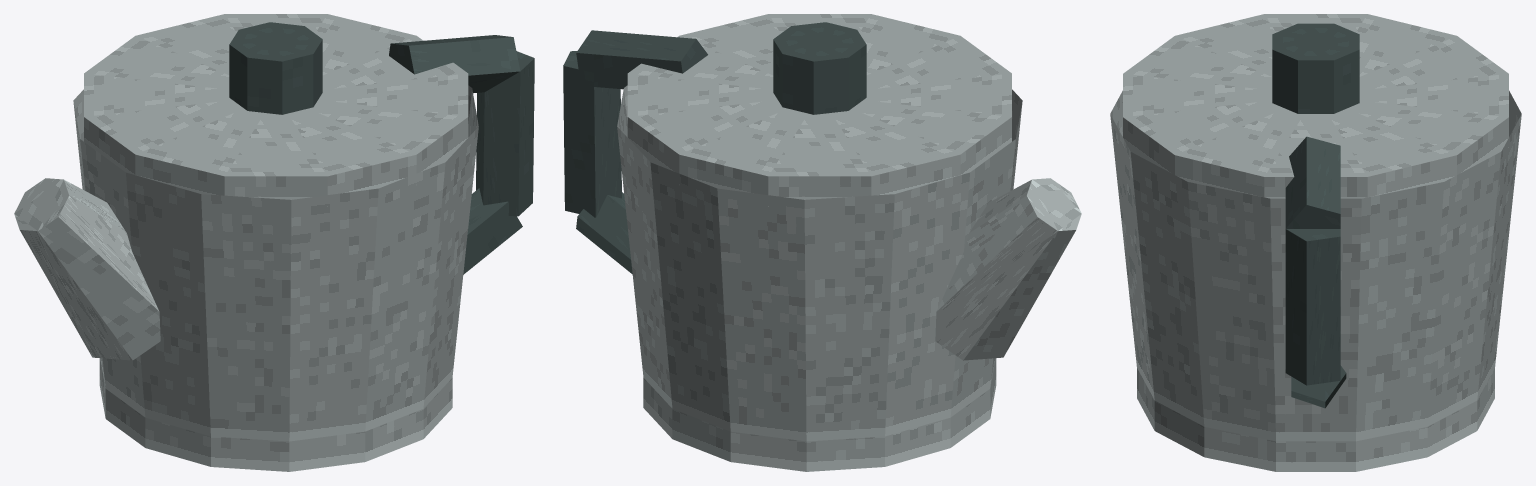
The model's file is teapot.glb.
The picture shows the model from 3 angles, left to right: view 1: azimuth 30°, elevation 25°; view 2: azimuth 150°, elevation 25°; view 3: azimuth 270°, elevation 25°; orthographic projection.
Parts seen in each view (by area): view 1: block_vessel wall, block_lid, block_spout, block_pressed base, block_knob, block_insulated handle 1, block_insulated handle 2, block_insulated handle 0; view 2: block_vessel wall, block_lid, block_spout, block_pressed base, block_knob, block_insulated handle 1, block_insulated handle 2, block_insulated handle 0; view 3: block_vessel wall, block_lid, block_pressed base, block_insulated handle 1, block_knob, block_insulated handle 2, block_insulated handle 0.
Part boxes in pixels (x1,y1,x2,y2): block_vessel wall: (73,85,478,441); block_lid: (84,14,468,206); block_spout: (14,178,160,360); block_pressed base: (99,358,452,471); block_knob: (229,22,322,114); block_insulated handle 1: (476,51,534,216); block_insulated handle 2: (389,35,520,93); block_insulated handle 0: (463,188,522,274); block_vessel wall: (617,85,1022,441); block_lid: (627,14,1011,206); block_spout: (935,178,1081,360); block_pressed base: (643,358,996,471); block_knob: (773,22,866,114); block_insulated handle 1: (563,51,621,217); block_insulated handle 2: (576,30,707,89); block_insulated handle 0: (576,192,632,274); block_vessel wall: (1110,90,1521,441); block_lid: (1123,14,1508,198); block_pressed base: (1137,368,1494,471); block_insulated handle 1: (1285,229,1340,385); block_knob: (1272,23,1359,113); block_insulated handle 2: (1285,136,1340,228); block_insulated handle 0: (1291,365,1346,408).
Size of the model in its own units: 0.17 by 0.1129 by 0.1183.
2 materials, 2 textured.
